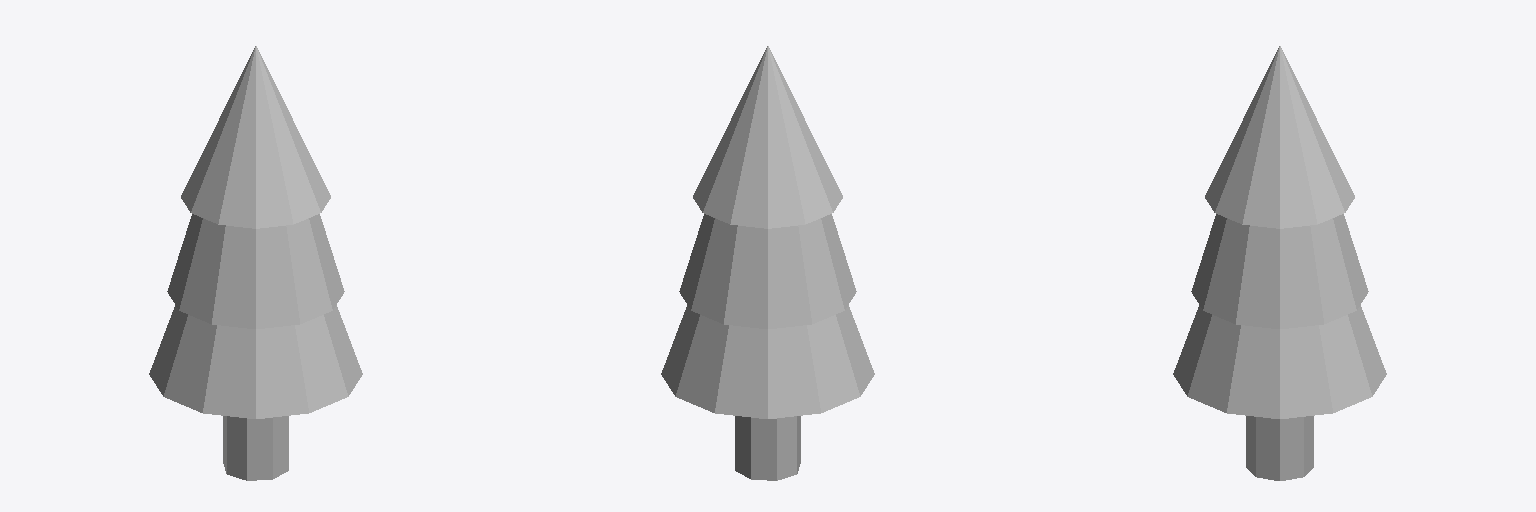
The model's file is Tree.obj.
3 views of the same model, side by side, from view 1: azimuth 30°, elevation 25°; view 2: azimuth 150°, elevation 25°; view 3: azimuth 270°, elevation 25° (orthographic).
Parts seen in each view (by area): view 1: Tree_Cylinder; view 2: Tree_Cylinder; view 3: Tree_Cylinder.
Part boxes in pixels (x1,y1,x2,y2): Tree_Cylinder: (149, 46, 362, 480); Tree_Cylinder: (661, 46, 874, 480); Tree_Cylinder: (1173, 46, 1386, 480).
Bounding box in the file's own units: 0.2528 × 0.551 × 0.2528.